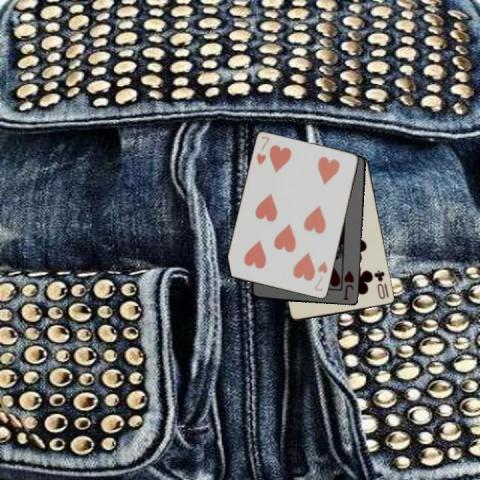10c: (371, 267, 390, 301)
7h: (253, 133, 272, 167), (311, 258, 329, 292)
Jh: (341, 268, 355, 302)
